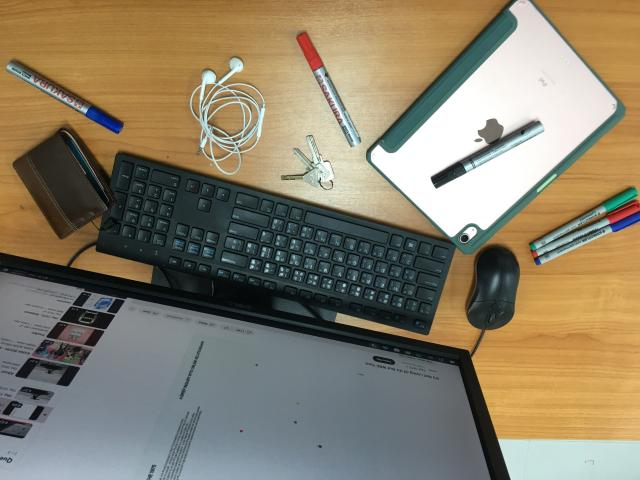Keys: (281, 134, 337, 194)
Mouse: (467, 246, 521, 332)
Pen: (5, 59, 123, 135), (530, 187, 640, 267), (431, 120, 546, 190), (296, 33, 362, 147)
Wallet: (13, 127, 116, 238)
wire: (185, 57, 266, 162)
